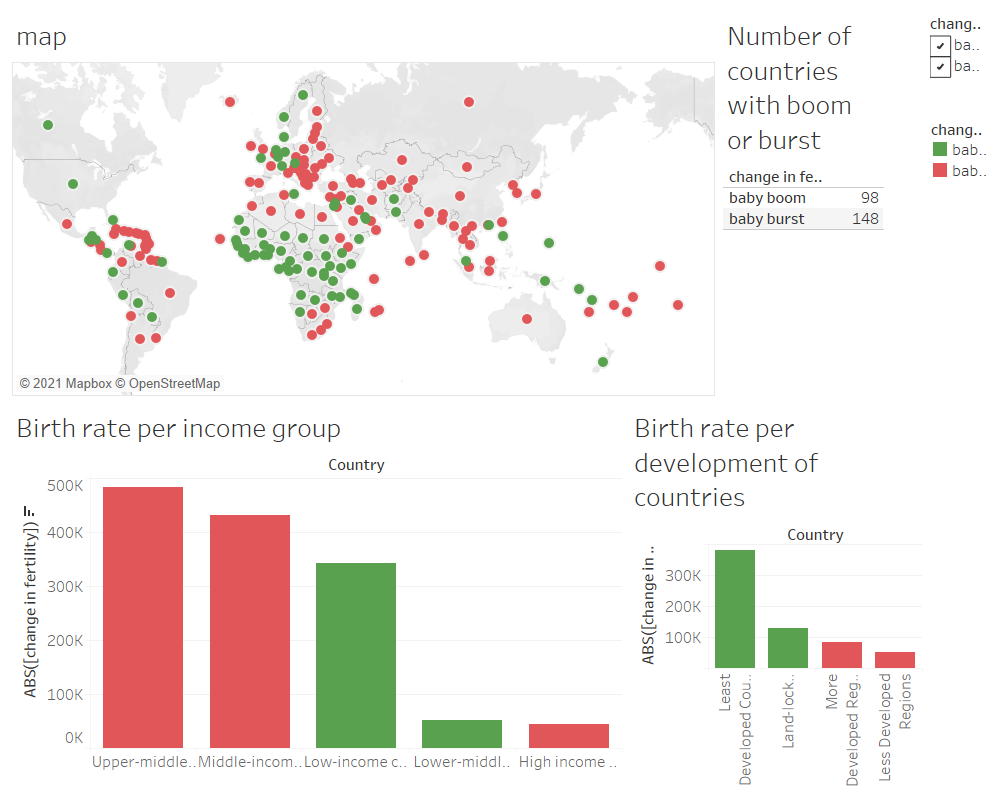

Layout of this report page (visuals, bound fields, positions):
{"tool":"tableau","page":{"name":"birthrate per country group","canvas":[1000,800],"ordinal":1},"visuals":[{"type":"worksheet","title":"map","mark":"Automatic","box":[8,8,639.4,392]},{"type":"worksheet","title":"no of countries","mark":"Automatic","box":[647.4,8,185.6,392]},{"type":"filter","title":"map","param":"[federated.11wts8m0ims0aq14hnoz61vwzjkd].[change in fertility (group)]","box":[833,8,159,105]},{"type":"legend","title":"map","param":"[federated.11wts8m0ims0aq14hnoz61vwzjkd].[change in fertility (group)]","box":[833,113,159,72]},{"type":"worksheet","title":"income of countries","mark":"Automatic","rows":["Calculation_1163054648312623106"],"cols":["Country"],"box":[8,400,555.4,392]},{"type":"worksheet","title":"development","mark":"Automatic","rows":["Calculation_1163054648312623106"],"cols":["Country"],"box":[563.4,400,269.6,392]}]}

Visuals, with their boxes in screenshot pixels (x1, y1, x2, y2), scaled from the page's 1000x800 canvas onto the 1000x800 screenshot:
"map" worksheet: x1=8, y1=8, x2=647, y2=400
"no of countries" worksheet: x1=647, y1=8, x2=833, y2=400
"map" filter: x1=833, y1=8, x2=992, y2=113
"map" legend: x1=833, y1=113, x2=992, y2=185
"income of countries" worksheet: x1=8, y1=400, x2=563, y2=792
"development" worksheet: x1=563, y1=400, x2=833, y2=792
